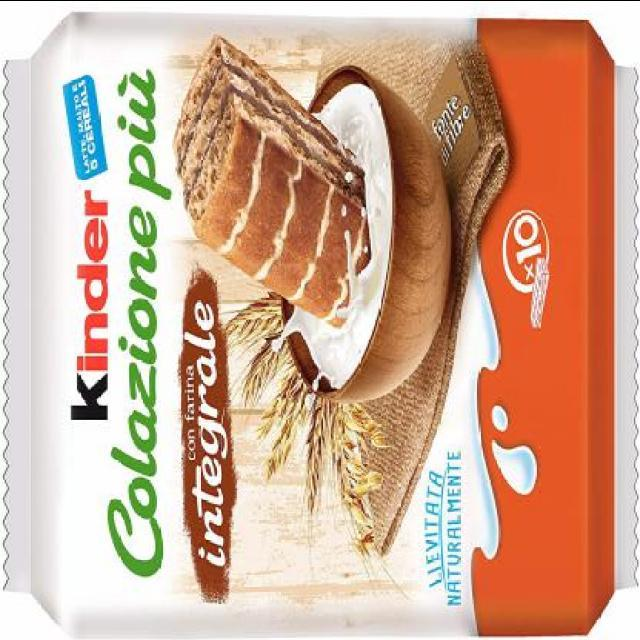Merendine: (39, 2, 630, 638)
